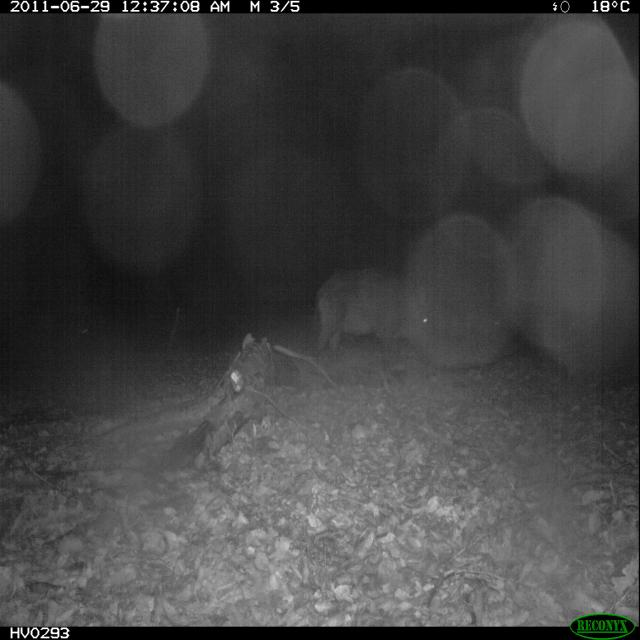boar: (302, 260, 463, 357)
